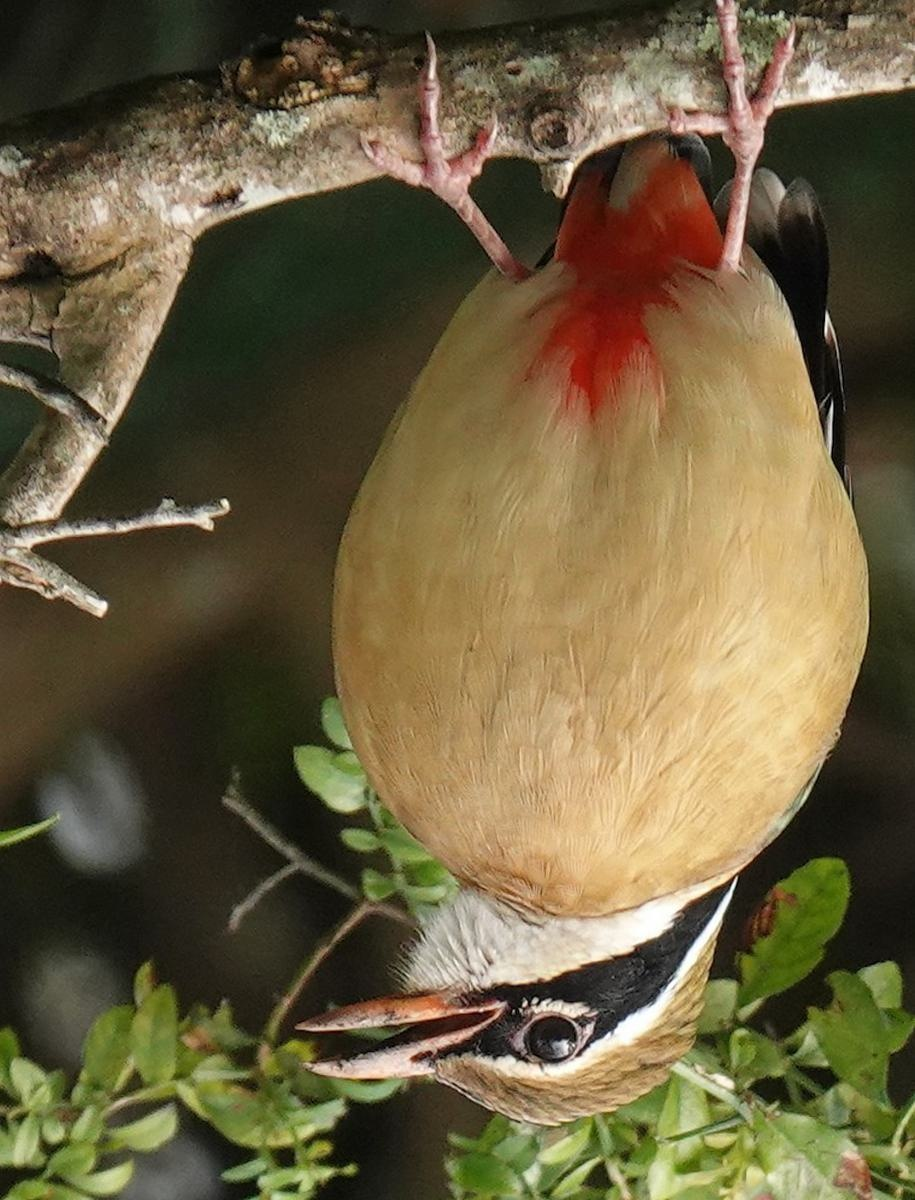pitta: (265, 114, 846, 1115)
